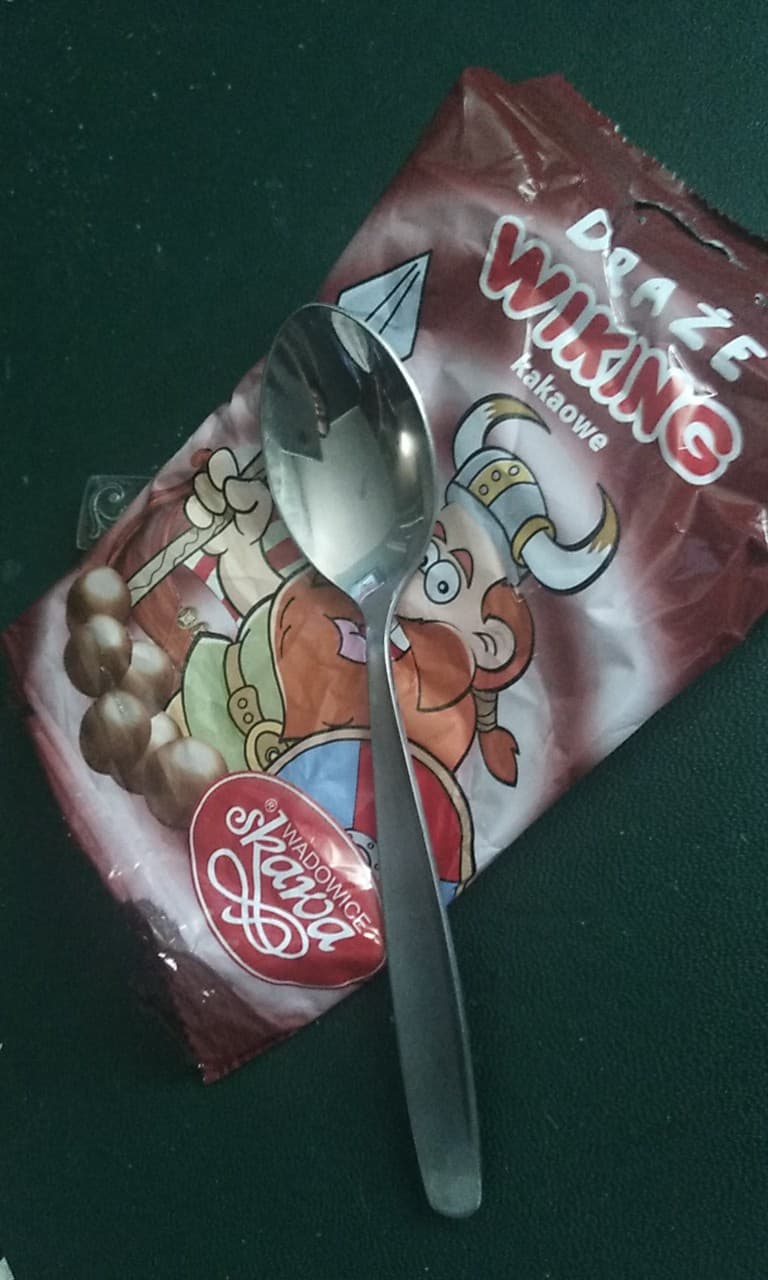Lyzka: (261, 298, 442, 593)
